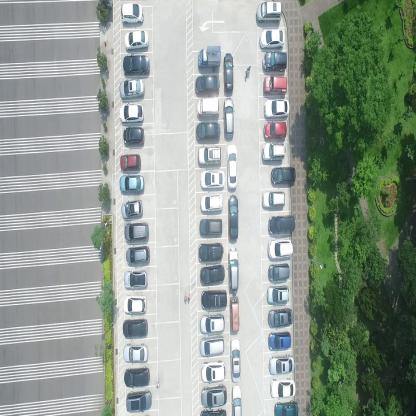car: (200, 288, 228, 313), (125, 389, 153, 413), (200, 359, 226, 384), (225, 144, 238, 192), (197, 45, 221, 71), (123, 53, 150, 76), (200, 385, 228, 407), (256, 0, 282, 23), (199, 264, 225, 287), (199, 335, 225, 358), (197, 241, 224, 263), (268, 377, 296, 398), (196, 96, 220, 120), (260, 27, 286, 49), (270, 165, 296, 187), (267, 238, 293, 260), (199, 168, 225, 190), (124, 29, 150, 51), (123, 342, 149, 364), (123, 366, 151, 386), (227, 246, 239, 292), (195, 74, 220, 96), (198, 216, 223, 238), (262, 51, 288, 72), (269, 354, 295, 375), (119, 174, 145, 195), (263, 98, 290, 118), (125, 246, 152, 266), (268, 214, 296, 233), (121, 2, 144, 25), (264, 74, 288, 96), (262, 141, 286, 163), (227, 193, 238, 241), (230, 336, 241, 384), (200, 192, 224, 214), (124, 268, 148, 290), (200, 314, 226, 334), (119, 79, 145, 99), (124, 220, 150, 240), (122, 318, 148, 338), (195, 122, 222, 141), (118, 103, 145, 122), (264, 120, 287, 142), (197, 146, 222, 166), (223, 97, 234, 141), (120, 198, 143, 219), (268, 331, 292, 351), (268, 308, 294, 326), (123, 126, 145, 147), (262, 189, 285, 209), (267, 262, 290, 282), (119, 151, 142, 171), (123, 295, 147, 314), (266, 284, 289, 303), (223, 52, 233, 95), (231, 383, 243, 415), (229, 296, 239, 334), (274, 400, 299, 415), (199, 405, 227, 415)
